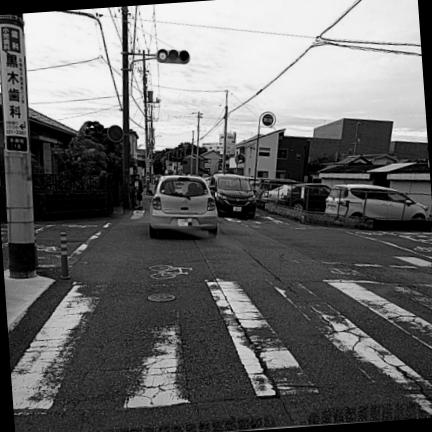Road: (8, 211, 431, 431)
